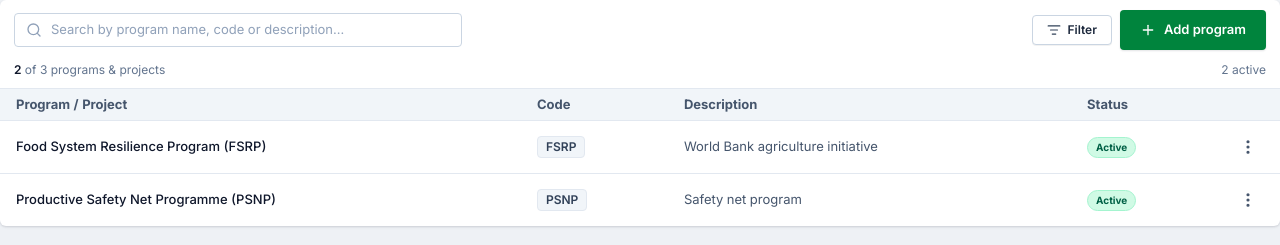
Scenario: ProgramsPage › renders programs and filters by active status and search text
Check: the text "Food System Resilience Program (FSRP)" is shown, box 16,138 -> 266,154
Check: the text "Productive Safety Net Programme (PSNP)" is shown, box 16,191 -> 276,207
# Search filter
Type "PSNP" into the field named "Search programs" at (238, 30), box 14,13 -> 462,46
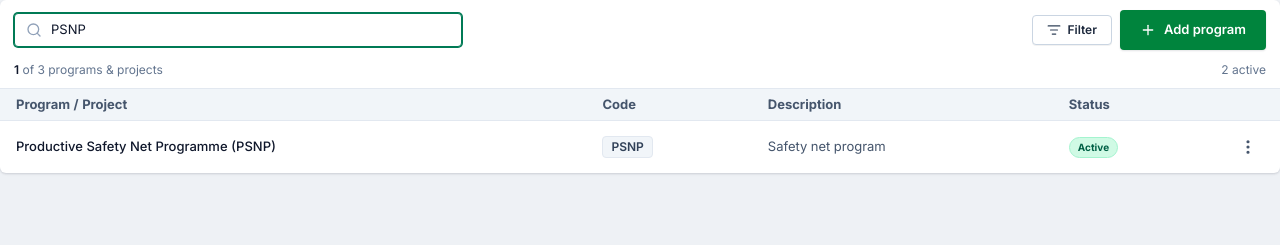
Check: the text "Productive Safety Net Programme (PSNP)" is shown, box 16,138 -> 276,154
Check: the text "Food System Resilience Program (FSRP)" is gone
